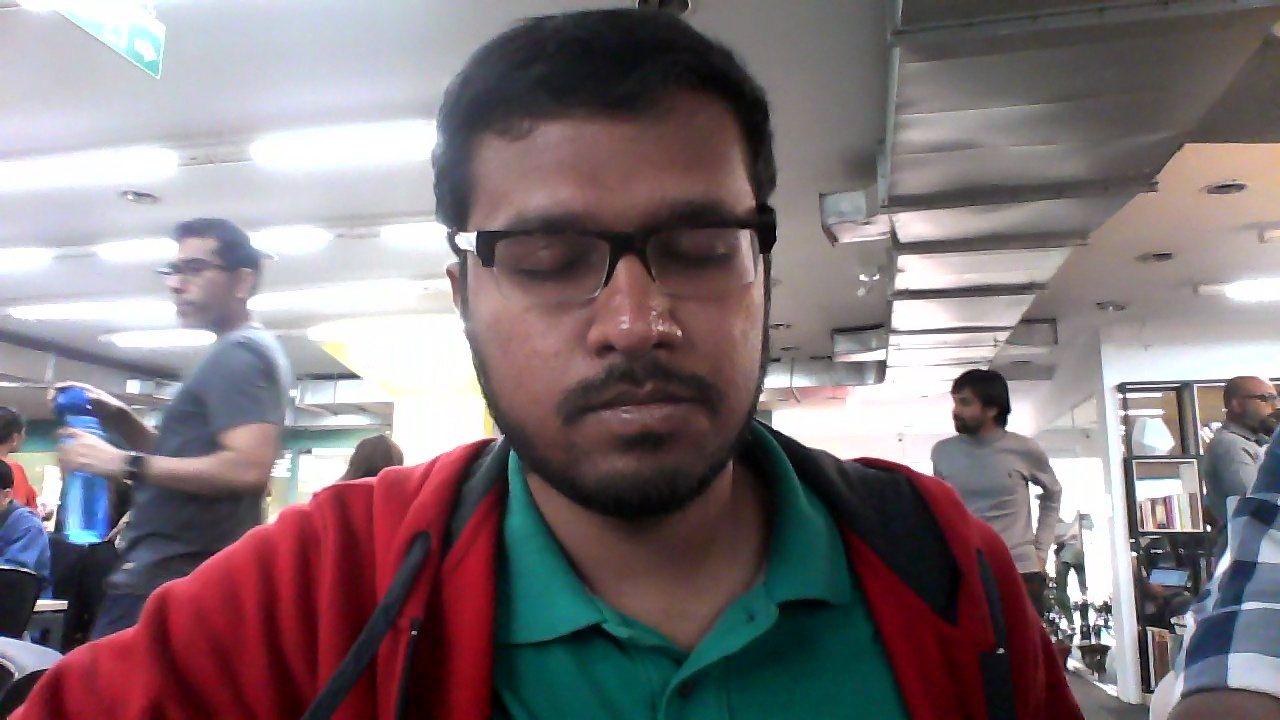closed: (431, 8, 793, 532)
